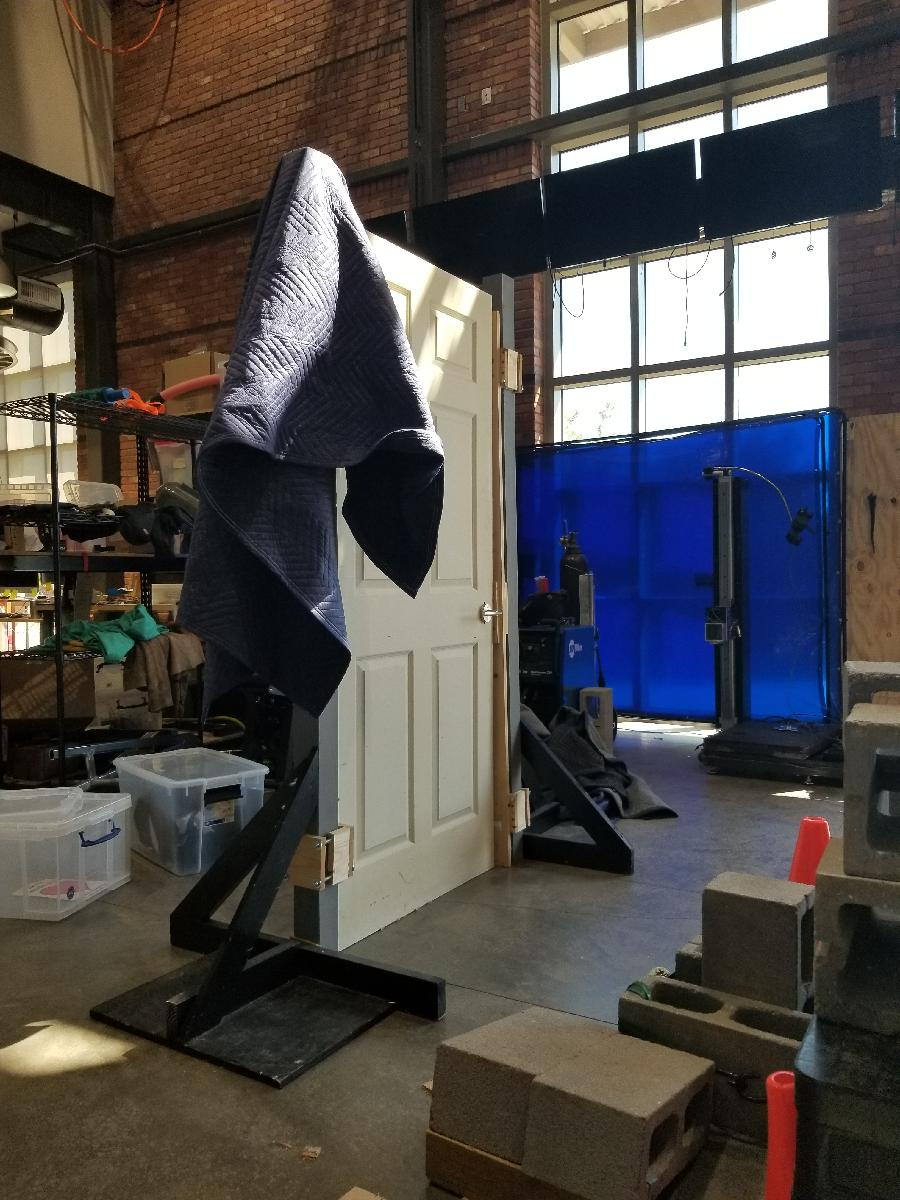door: (322, 215, 504, 954)
doorHandle: (474, 601, 508, 631)
